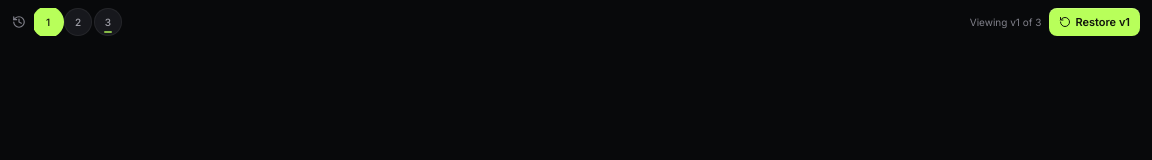
VersionTimeline › surfaces a failed restore as an alert
The width and height of the screenshot is (1152, 160).
What coordinates should you click on to do the following:
click the button "Restore v1"
I would click on:
 (1095, 22)
Its box is 1049,8 -> 1140,36.
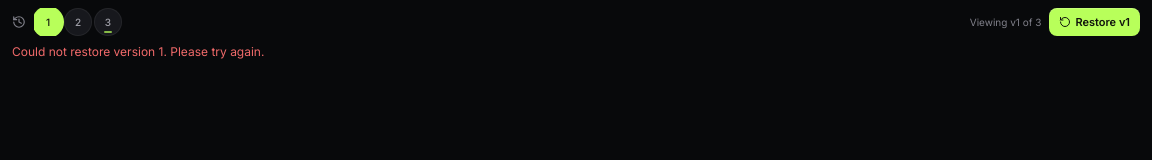
Expected: the message shows "Could not restore version 1", 12,44 -> 264,59
